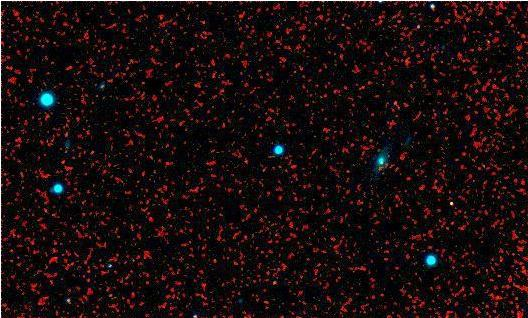star: (433, 185, 463, 215)
